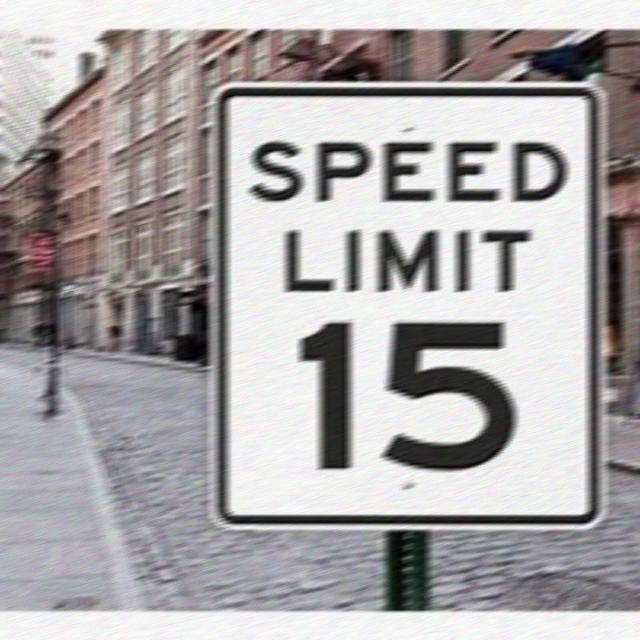speedLimit15: (209, 82, 604, 536)
